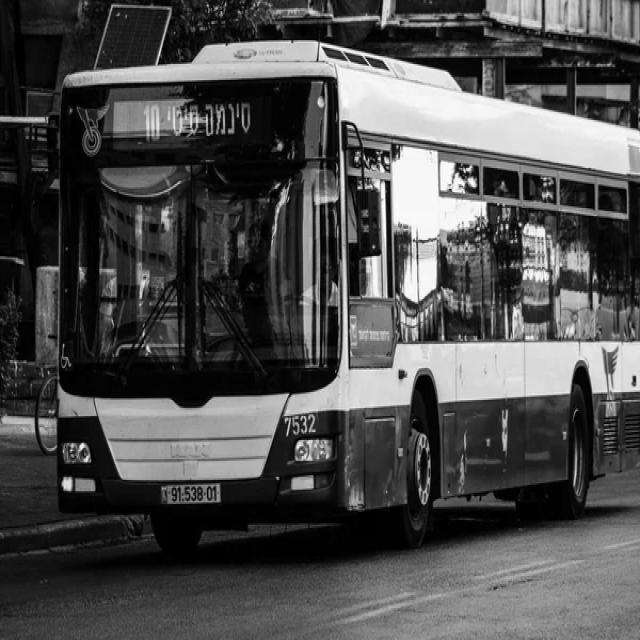Bus: (59, 40, 640, 555)
